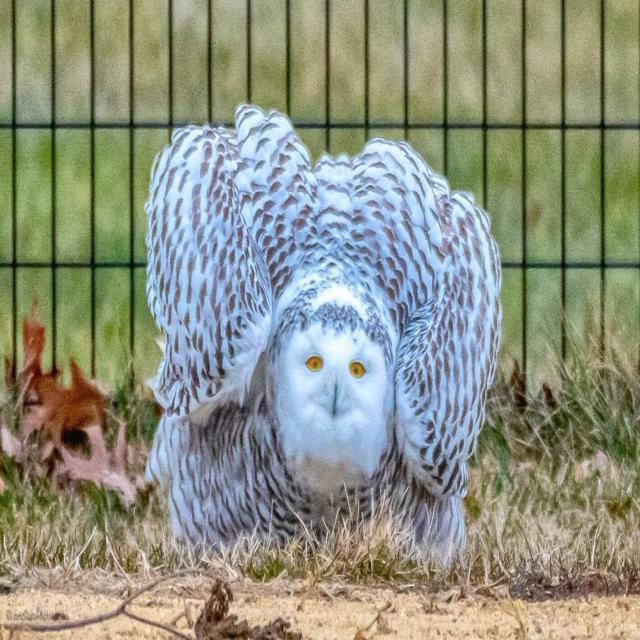Owl: (141, 98, 505, 605)
